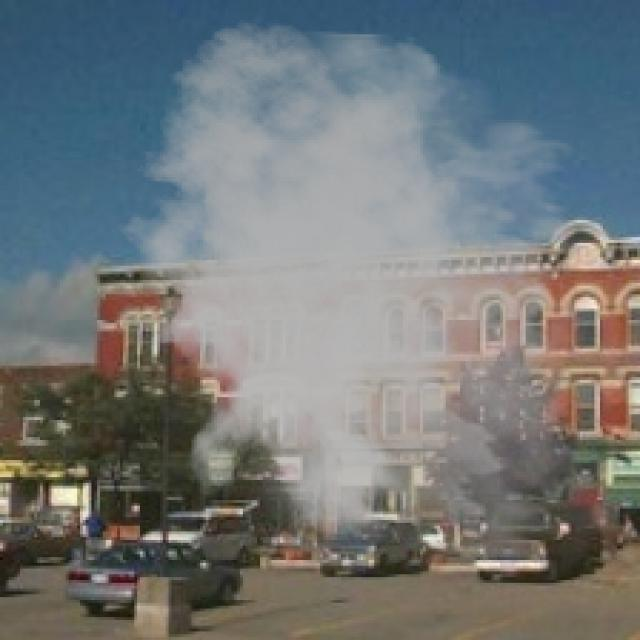smoke: (103, 20, 634, 589)
